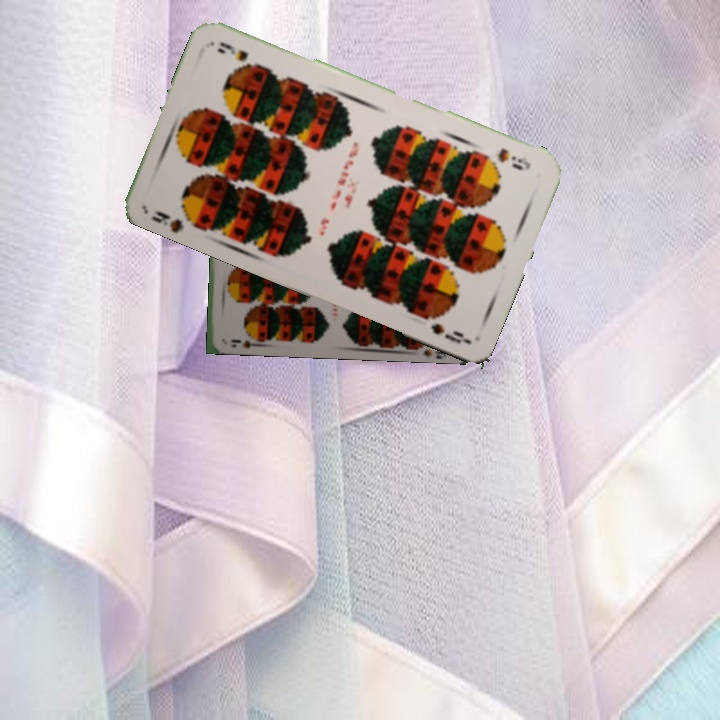S9: (147, 206, 203, 234), (493, 144, 533, 173), (227, 331, 262, 351)
